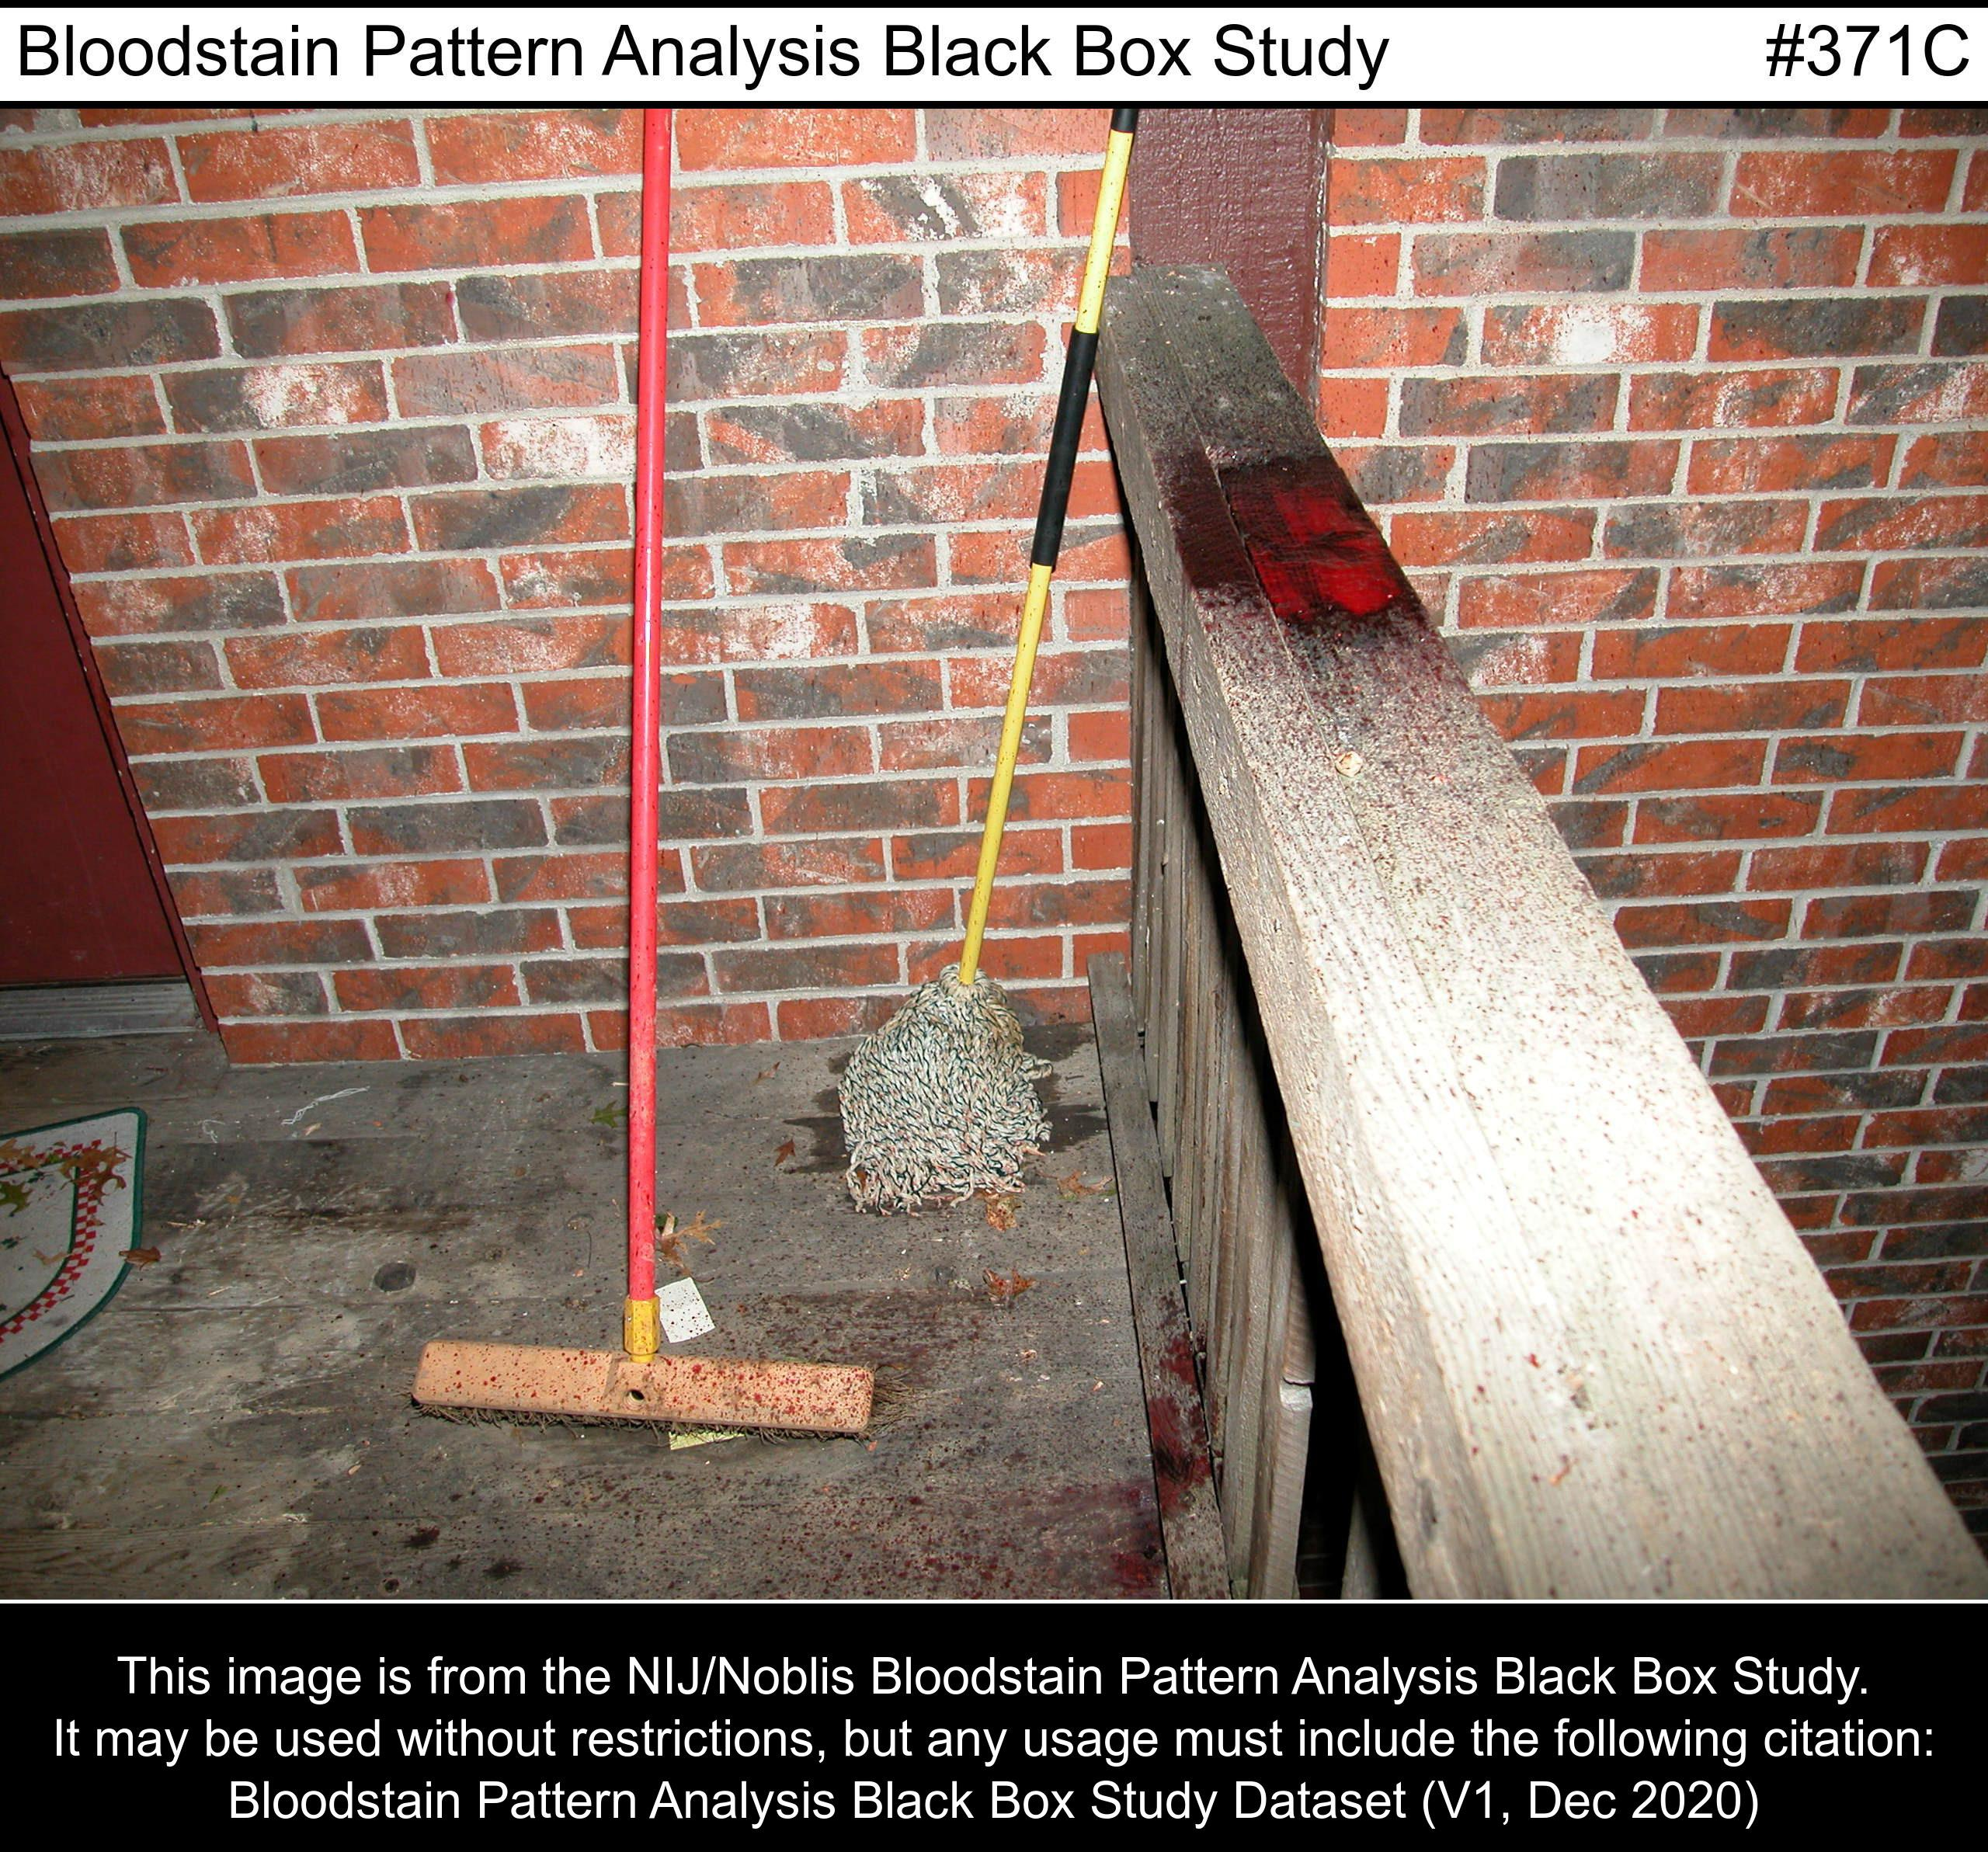Passive: (404, 1258, 1281, 1596), (1126, 400, 1452, 710)
